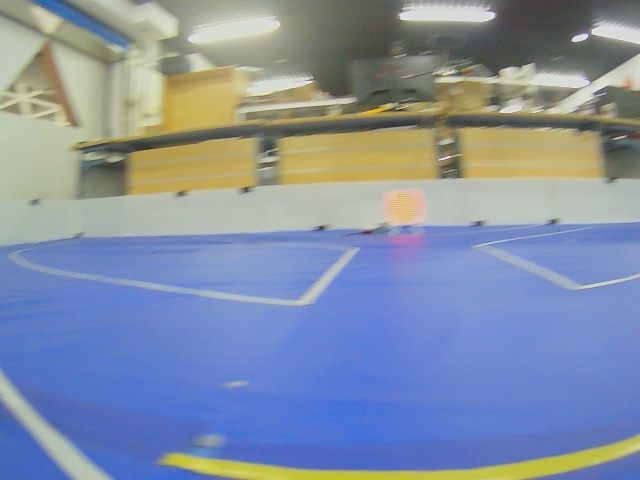red: (383, 189, 426, 227)
